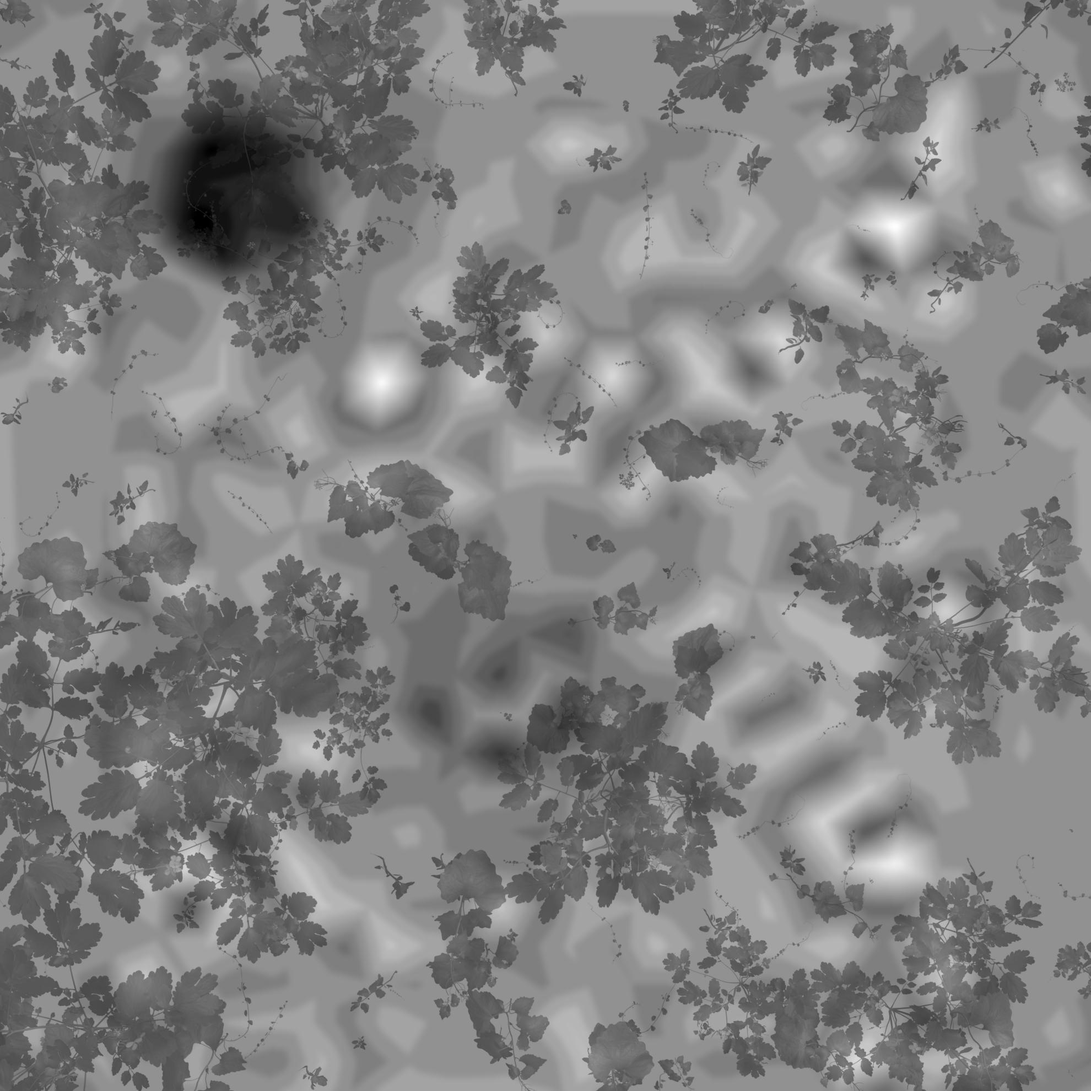landmine: (155, 109, 318, 274)
